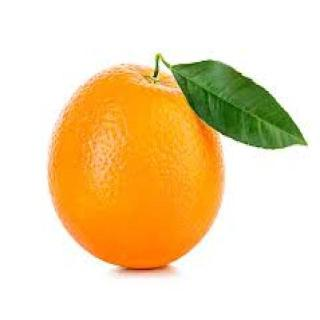orange: (20, 17, 251, 295)
